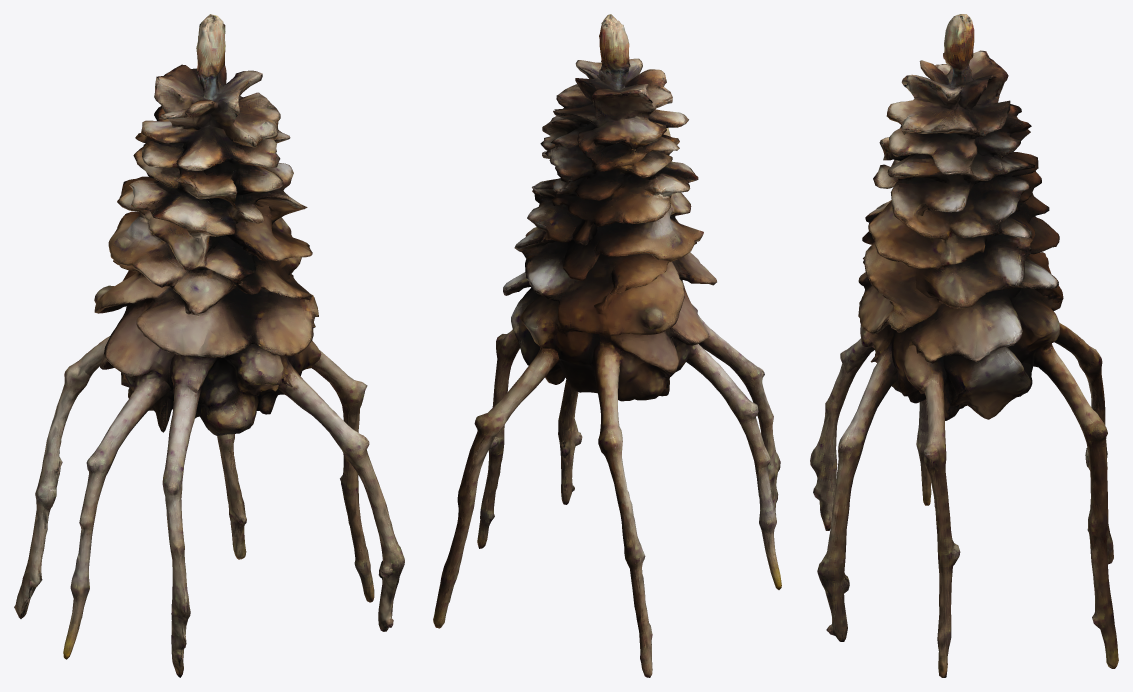
The model's file is sculpt1.glb.
3 renders of one model, left to right at view 1: azimuth 30°, elevation 25°; view 2: azimuth 150°, elevation 25°; view 3: azimuth 270°, elevation 25°, orthographic. The views are drawn at different scales.
Parts seen in each view (by area): view 1: mesh; view 2: mesh; view 3: mesh.
Boxes of the visible parts, <box> form: mesh: <box>14,14,404,677</box>; mesh: <box>433,14,781,677</box>; mesh: <box>810,14,1118,677</box>.
Bounding box in the file's own units: 0.3938 × 0.7434 × 0.3427.
Materials: 1 (1 with a texture image).
